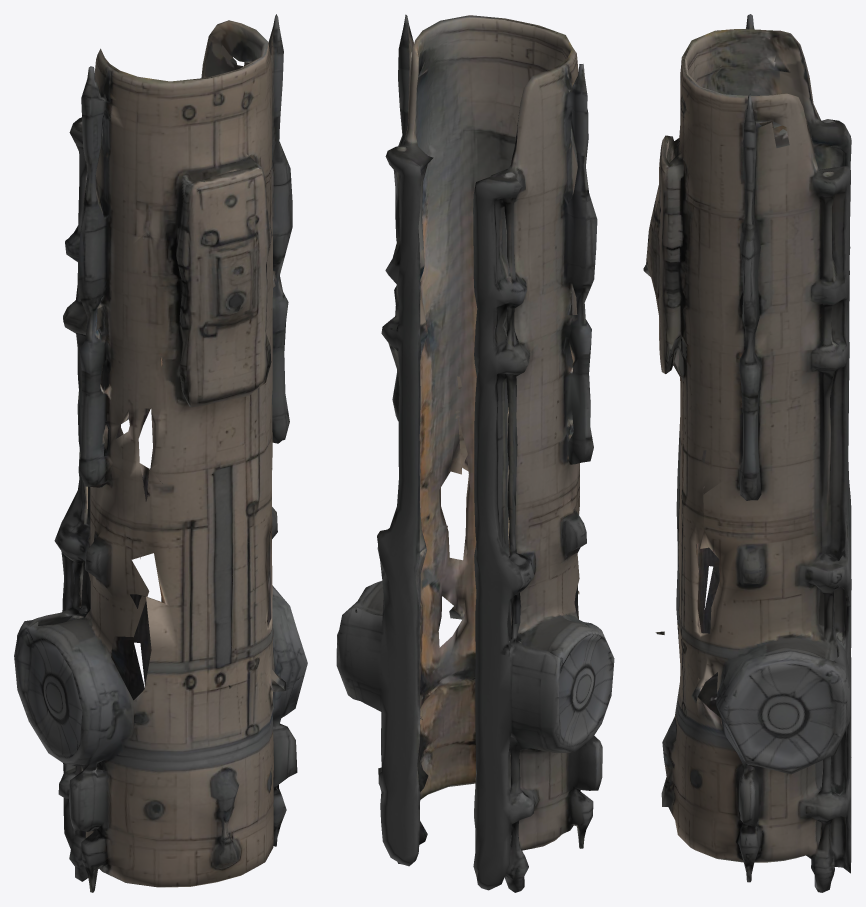
File: SpaceShip01.fbx
3 views of the same model, side by side, from view 1: azimuth 30°, elevation 25°; view 2: azimuth 150°, elevation 25°; view 3: azimuth 270°, elevation 25° (orthographic). The views are drawn at different scales.
Parts seen in each view (by area): view 1: tripo_node_c2604ba3; view 2: tripo_node_c2604ba3; view 3: tripo_node_c2604ba3.
Part boxes in pixels (<box>): tripo_node_c2604ba3: <box>14,14,307,892</box>; tripo_node_c2604ba3: <box>336,14,614,892</box>; tripo_node_c2604ba3: <box>643,14,851,892</box>.
Bounding box in the file's own units: 5.68 × 19.86 × 4.6.
Materials: 1 (1 with a texture image).
